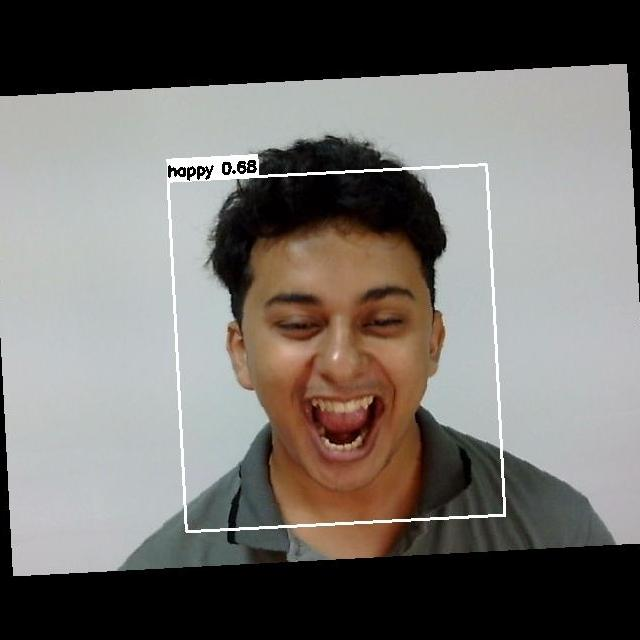Surprised: (233, 266, 438, 466)
